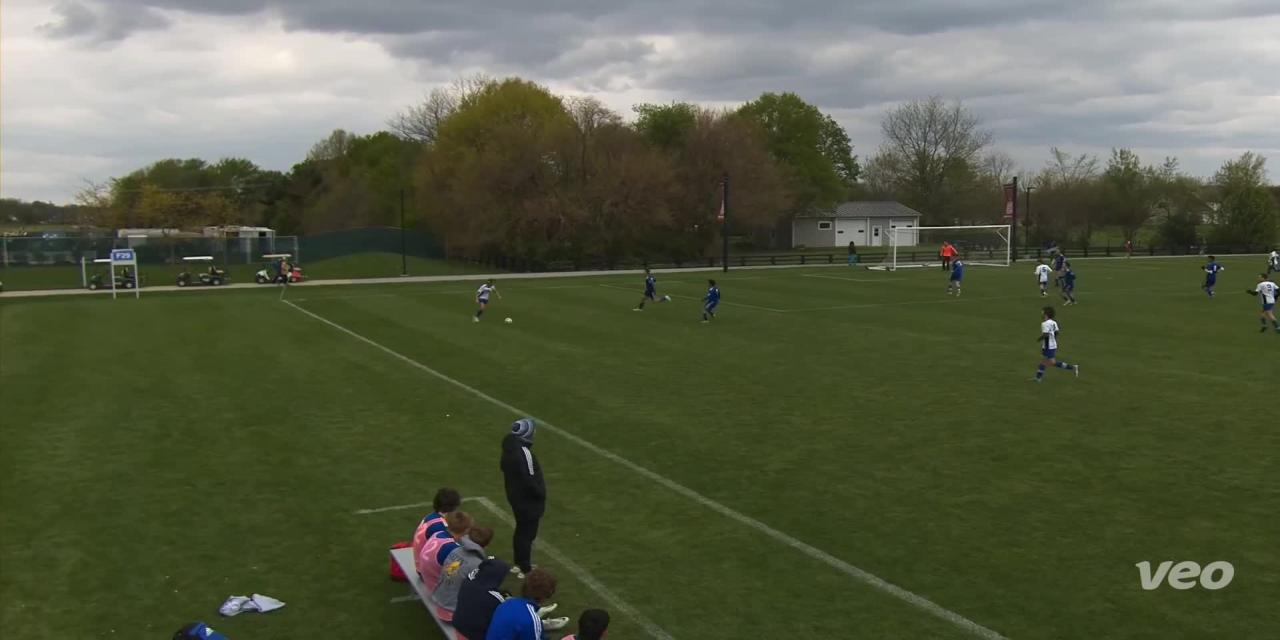goal: (863, 216, 1019, 282)
sports ball: (496, 310, 516, 326)
